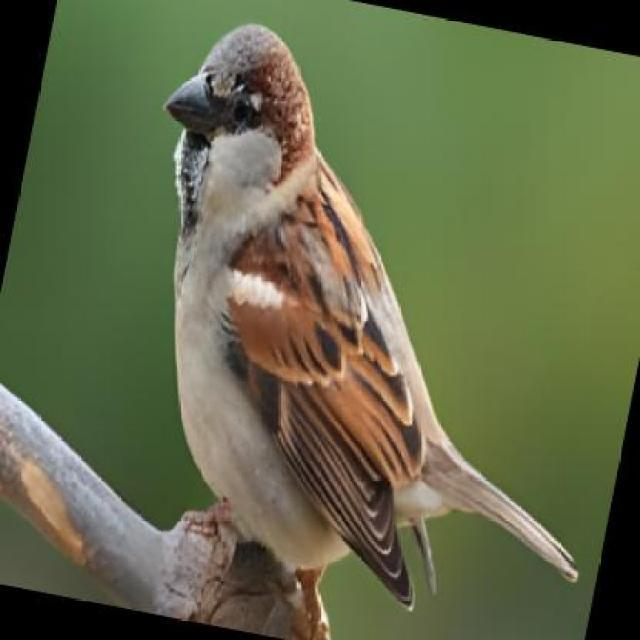Bird: (154, 12, 582, 608)
